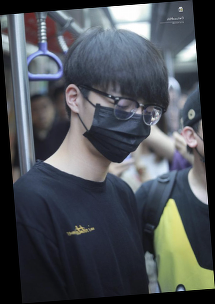with_mask: (79, 83, 159, 164)
